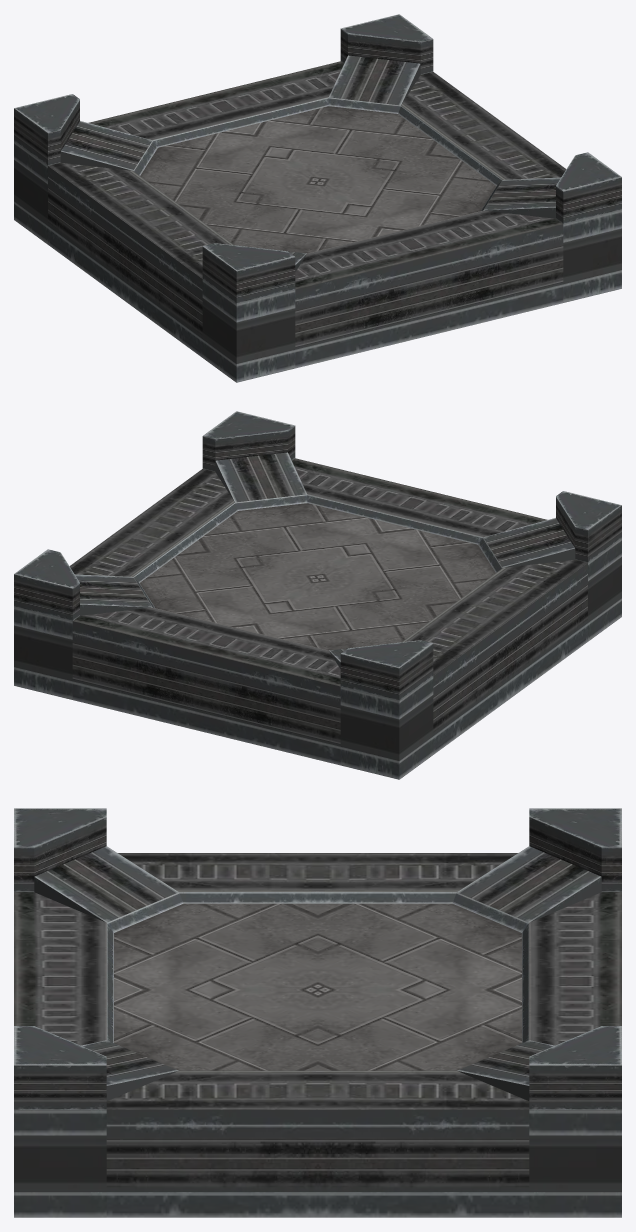
File: platform-transformed.glb
3 views of the same model, one above another, from view 1: azimuth 30°, elevation 25°; view 2: azimuth 150°, elevation 25°; view 3: azimuth 270°, elevation 25° (orthographic). The views are drawn at different scales.
Visible parts, largest first — view 1: platformPrefabCorner_Material_0; view 2: platformPrefabCorner_Material_0; view 3: platformPrefabCorner_Material_0.
Boxes of the visible parts, x1=… form: platformPrefabCorner_Material_0: x1=14, y1=14, x2=621, y2=382; platformPrefabCorner_Material_0: x1=14, y1=411, x2=621, y2=779; platformPrefabCorner_Material_0: x1=14, y1=808, x2=621, y2=1217.
Size of the model in its own units: 200 by 55.39 by 200.
1 material, 1 textured.
